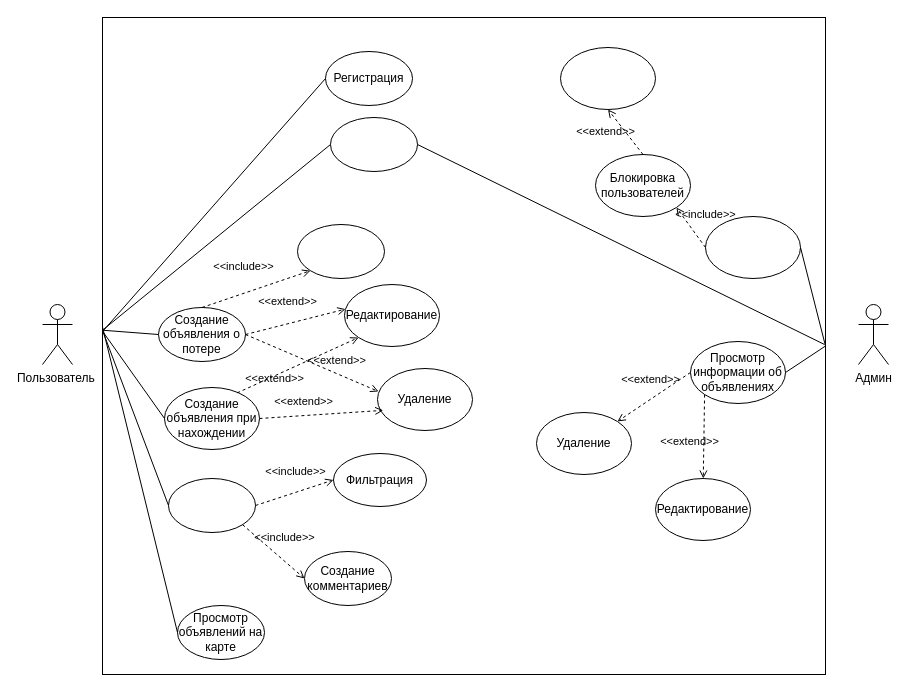
This 909x692 diagram has some shape labels left out. Here are the shapes that lost their labels. From the top down, the centre of each, then its label:
At [608,78]: "Разблокировка пользователей".
At [374,144]: "Авторизация".
At [340,251]: "Получение уведомлений".
At [752,247]: "Просмотр информации о пользователях".
At [212,505]: "Просмотр объявлений".
